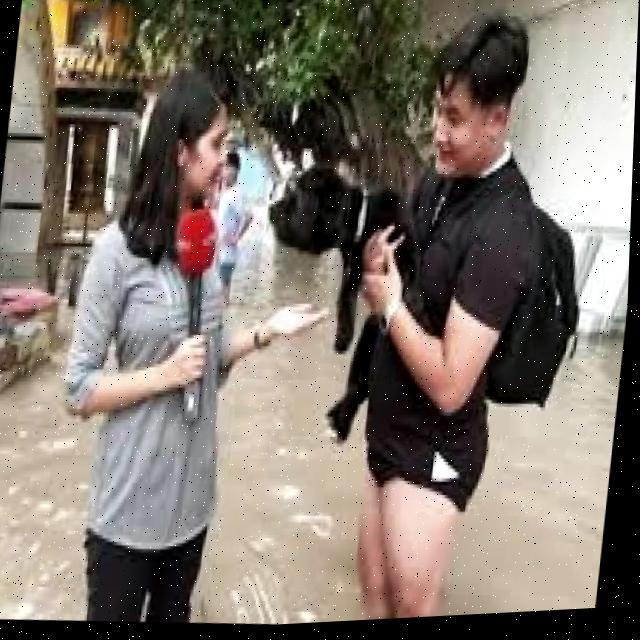civilian: (336, 0, 618, 621), (48, 59, 300, 633), (193, 124, 271, 324)
dog: (244, 145, 425, 444)
